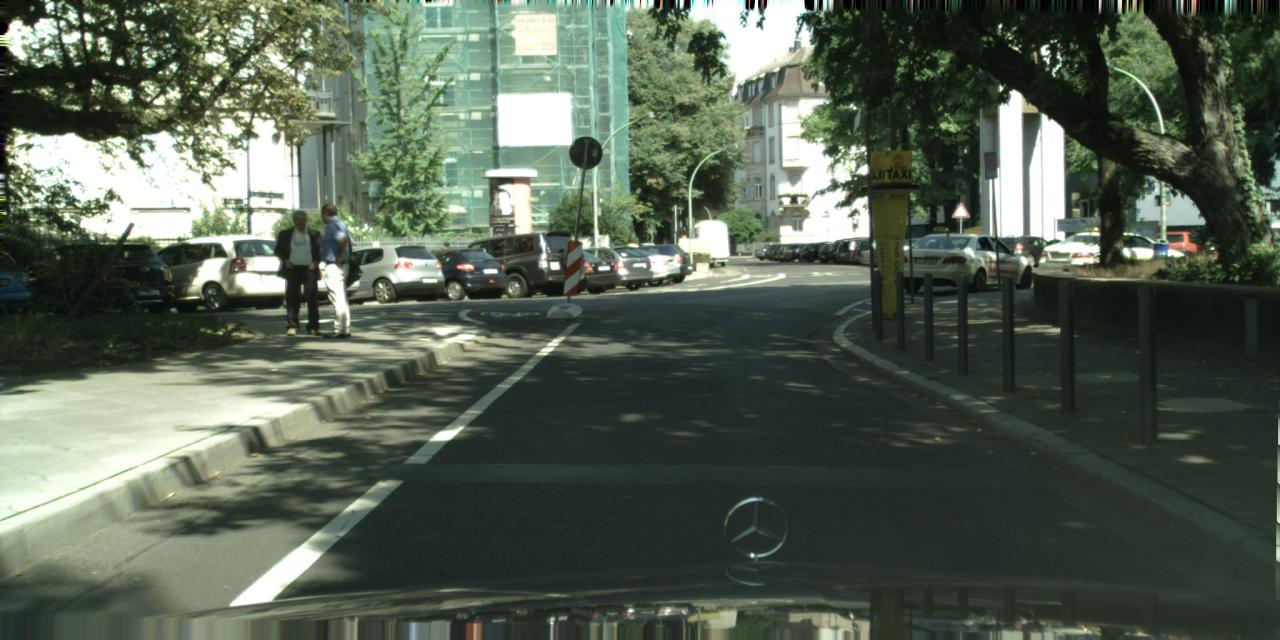ped: (308, 202, 364, 338), (274, 209, 326, 334), (436, 242, 453, 284)
